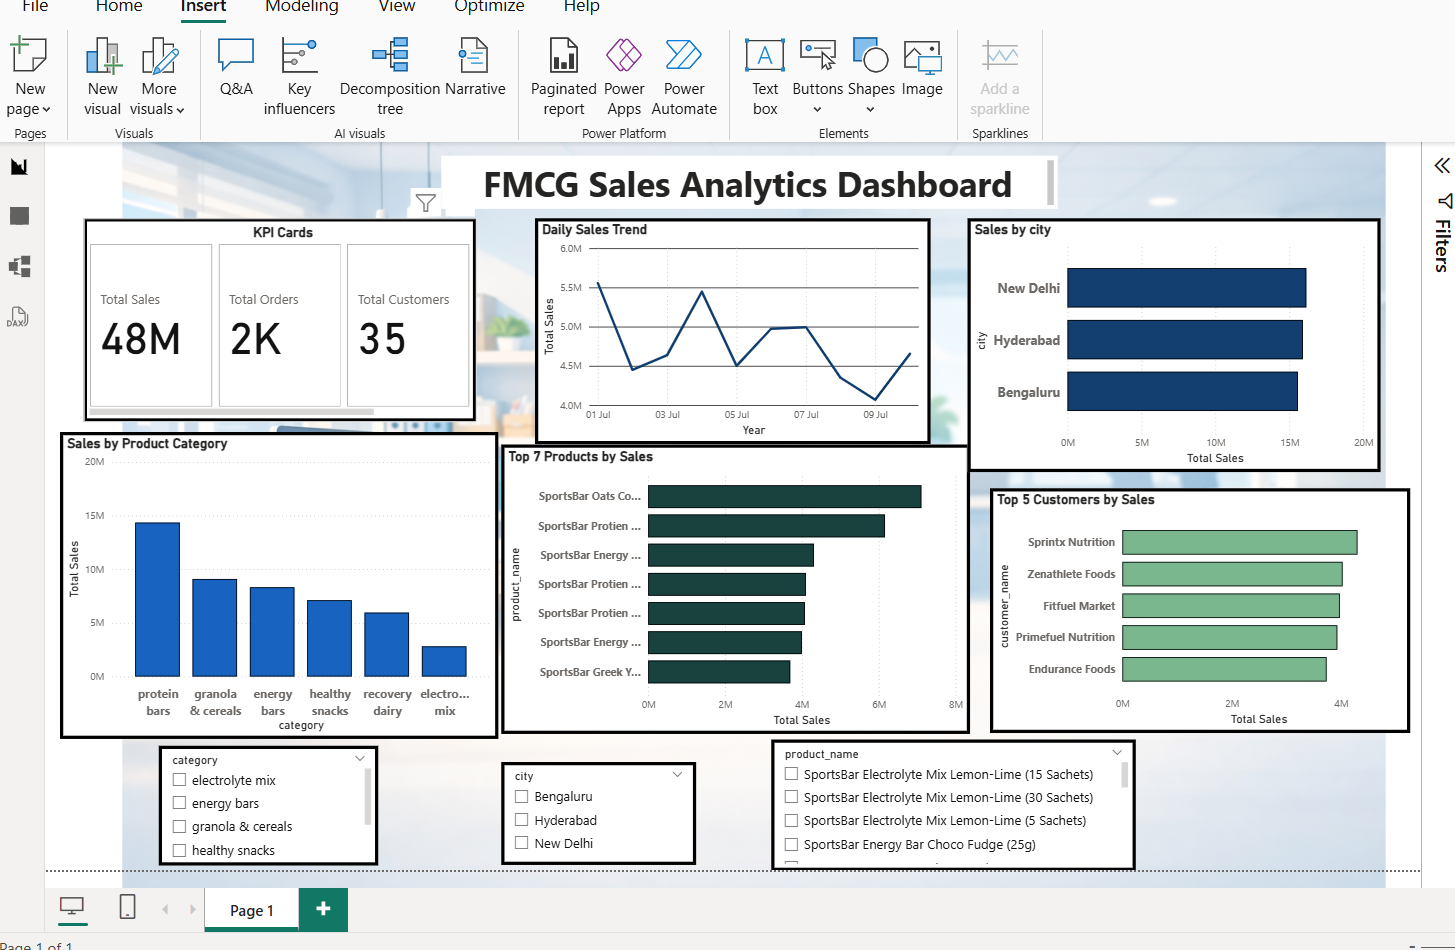

The page's visual inventory and layout, read from the dashboard file:
{"tool":"powerbi","page":{"name":"Page 1","canvas":[1700,900],"ordinal":0},"visuals":[{"type":"cardVisual","title":"KPI Cards","fields":{"Data":["dim_customers.Total Sales","dim_customers.Total Orders","dim_customers.Total Customers","dim_customers.Total Products"]},"box":[47.4,94.8,484.8,251.5],"z":0},{"type":"clusteredColumnChart","title":"Sales by Product Category","fields":{"Category":["dim_products.category"],"Y":["dim_customers.Total Sales"]},"box":[18.2,359,541.3,379.1],"z":1000},{"type":"clusteredBarChart","title":"Top 7 Products by Sales","fields":{"Category":["dim_products.product_name"],"Y":["dim_customers.Total Sales"]},"box":[563.1,373.6,579.5,357.2],"z":2000},{"type":"barChart","title":"Sales by city","fields":{"Category":["dim_customers.city"],"Y":["dim_customers.Total Sales"]},"box":[1139,94.8,510.3,313.5],"z":3000},{"type":"clusteredBarChart","title":"Top 5 Customers by Sales","fields":{"Category":["dim_customers.customer_name"],"Y":["dim_customers.Total Sales"]},"box":[1168.2,428.3,519.4,302.5],"z":4000},{"type":"slicer","fields":{"Values":["dim_products.category"]},"box":[140.3,745.4,271.5,147.6],"z":5000},{"type":"slicer","fields":{"Values":["dim_products.product_name"]},"box":[896.7,738.1,450.2,162.2],"z":6000},{"type":"slicer","fields":{"Values":["dim_customers.city"]},"box":[563.1,765.4,240.6,127.6],"z":7000},{"type":"lineChart","title":"Daily Sales Trend","fields":{"Y":["dim_customers.Total Sales"],"Category":["dim_date.date.Variation.Date Hierarchy.Year","dim_date.date.Variation.Date Hierarchy.Quarter","dim_date.date.Variation.Date Hierarchy.Month","dim_date.date.Variation.Date Hierarchy.Day"]},"box":[605.1,94.8,488.4,278.8],"z":8000},{"type":"textbox","box":[490.2,16.4,761.8,65.6],"z":8001}]}

Visuals, with their boxes in screenshot pixels (x1, y1, x2, y2):
"KPI Cards" cardVisual: left=76, top=214, right=471, bottom=418
"Sales by Product Category" clusteredColumnChart: left=53, top=429, right=493, bottom=737
"Top 7 Products by Sales" clusteredBarChart: left=496, top=441, right=968, bottom=731
"Sales by city" barChart: left=965, top=214, right=1381, bottom=469
"Top 5 Customers by Sales" clusteredBarChart: left=989, top=485, right=1412, bottom=731
slicer - dim_products.category: left=152, top=743, right=373, bottom=863
slicer - dim_products.product_name: left=768, top=737, right=1134, bottom=869
slicer - dim_customers.city: left=496, top=760, right=692, bottom=863
"Daily Sales Trend" lineChart: left=531, top=214, right=928, bottom=441
textbox: left=437, top=150, right=1057, bottom=203
